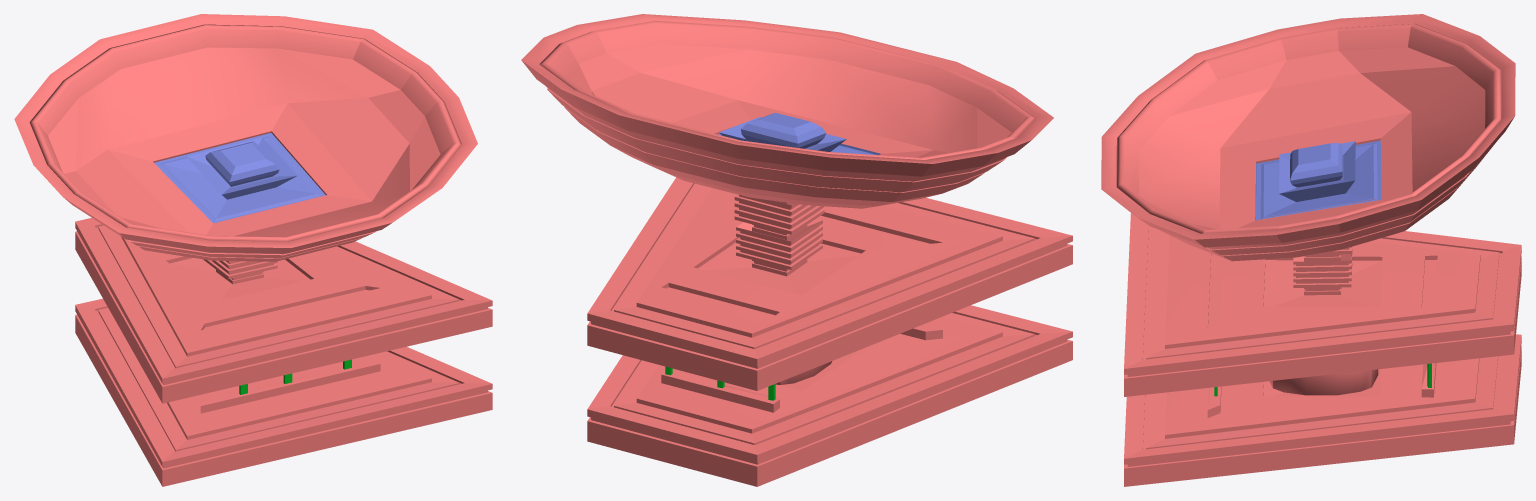
File: KF_SM_SatelliteDIsh_Ben.fbx
3 views of the same model, side by side, from view 1: azimuth 30°, elevation 25°; view 2: azimuth 150°, elevation 25°; view 3: azimuth 270°, elevation 25° (orthographic). The views are drawn at different scales.
Visible parts, largest first — view 1: Box003; view 2: Box003; view 3: Box003.
Part boxes in pixels (x1=…): Box003: x1=14, y1=14, x2=492, y2=486; Box003: x1=521, y1=14, x2=1072, y2=486; Box003: x1=1101, y1=14, x2=1521, y2=486.
Bounding box in the file's own units: 141 × 98.83 × 120.
